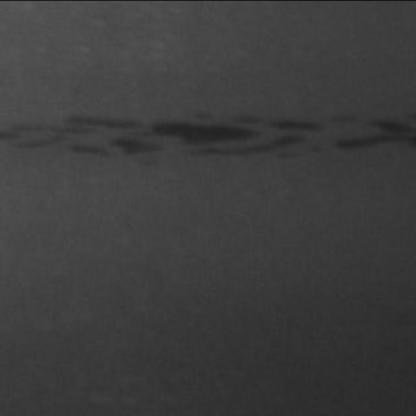inclusion: (0, 104, 364, 164), (318, 104, 408, 152)
